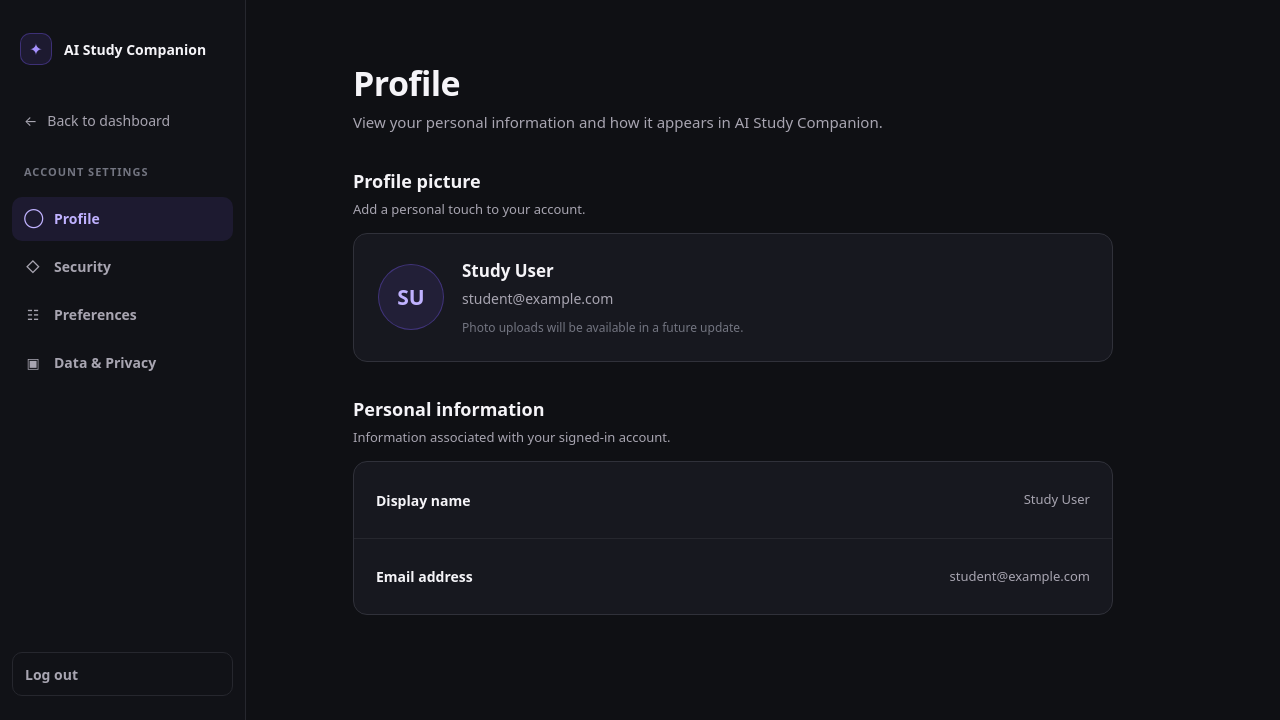
Scenario: Account settings workspace › defaults /account to Profile and switches categories
Expected: the heading "Profile" is shown, [353,60,460,106]
Click the link "◇ Security" at (68, 266), box [26,257,111,276]
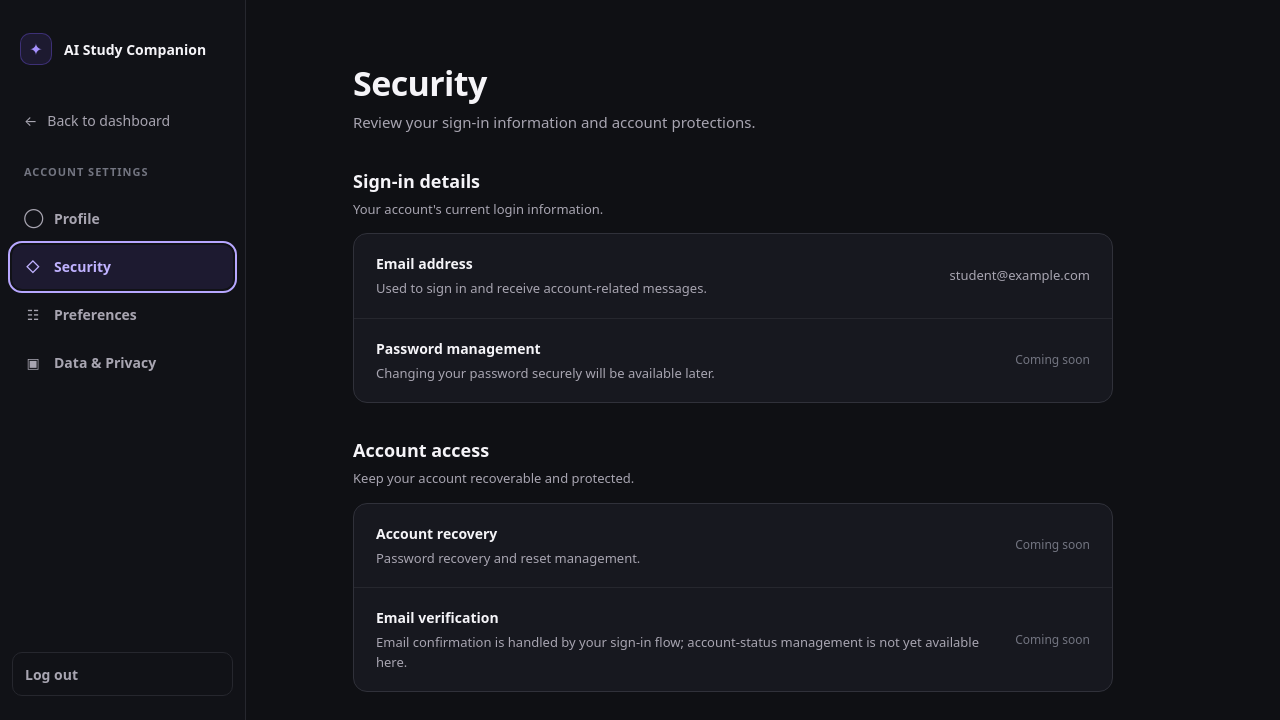
Expected: the heading "Sign-in details" is shown, [353,169,480,193]
Click the link "☷ Preferences" at (82, 314), box [27,305,137,324]
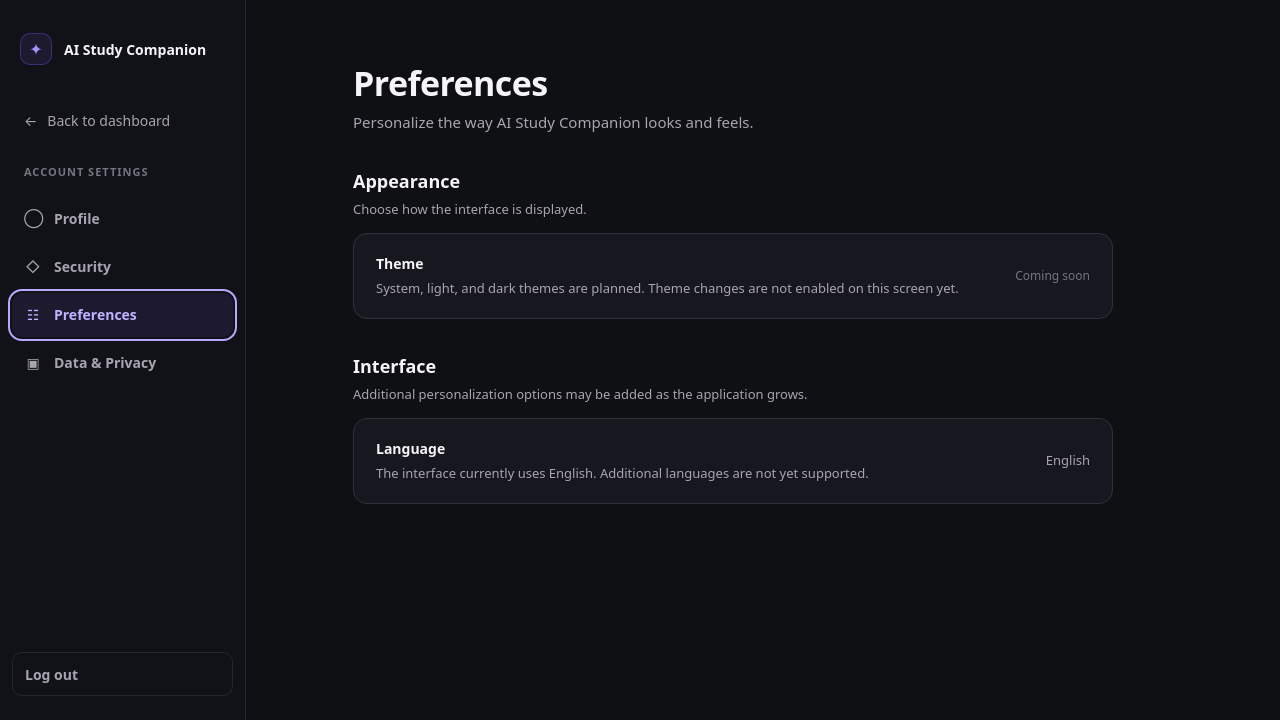
Expected: the heading "Appearance" is shown, [353,169,460,193]
Click the link "▣ Data & Privacy" at (91, 362), box [26,353,156,372]
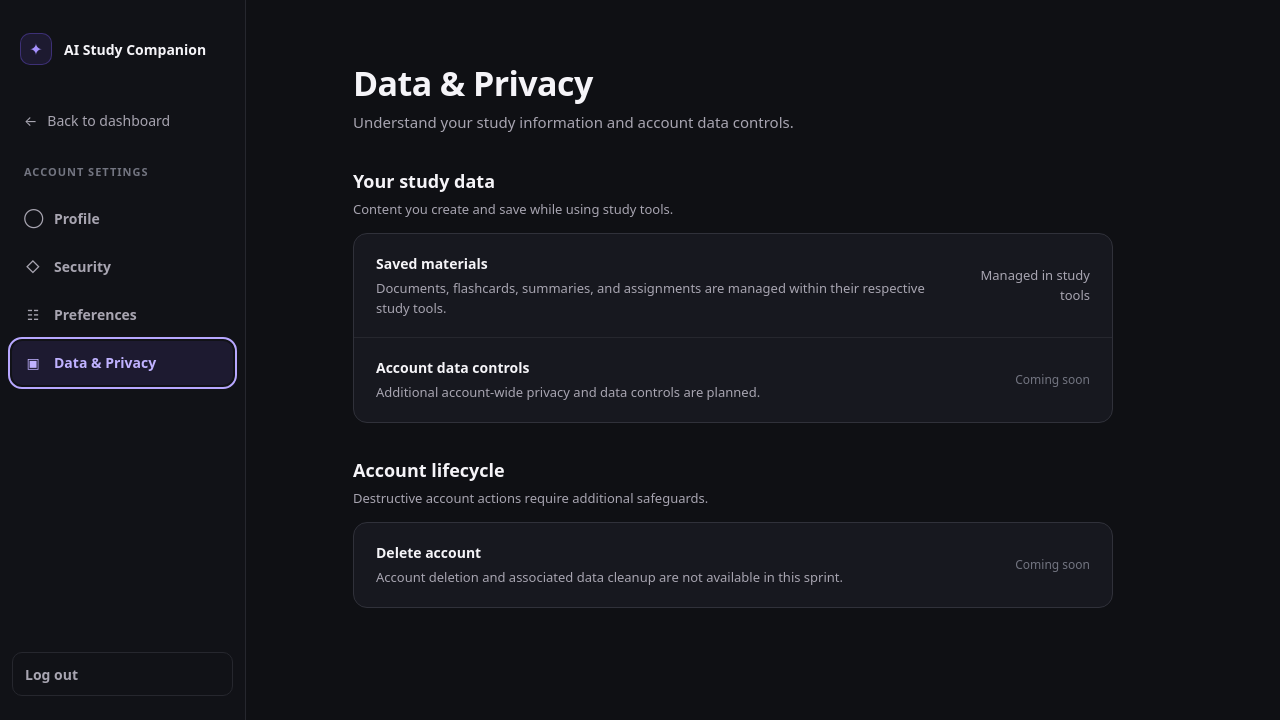
Expected: the heading "Account lifecycle" is shown, [353,458,505,482]
